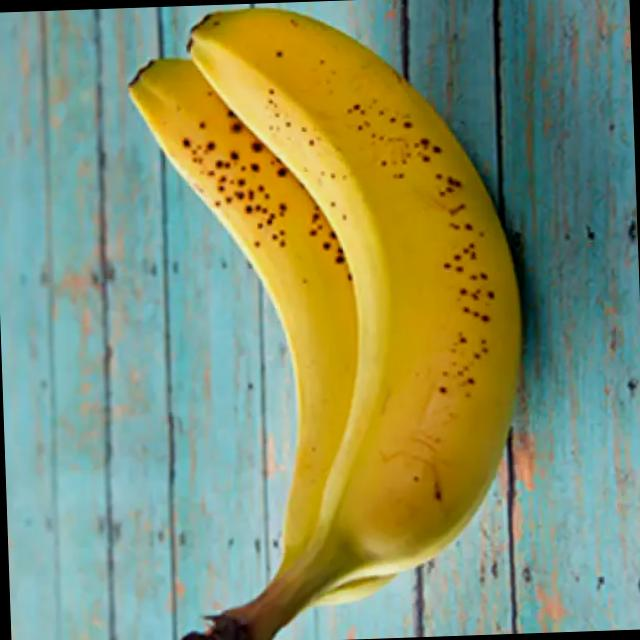Platano: (118, 0, 537, 640)
